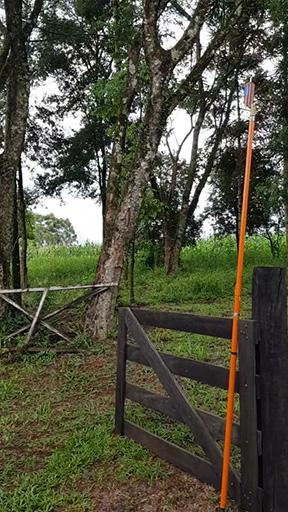Detector_Tensao_Contato: (242, 74, 256, 110)
Vara_Manobra: (220, 105, 256, 507)
